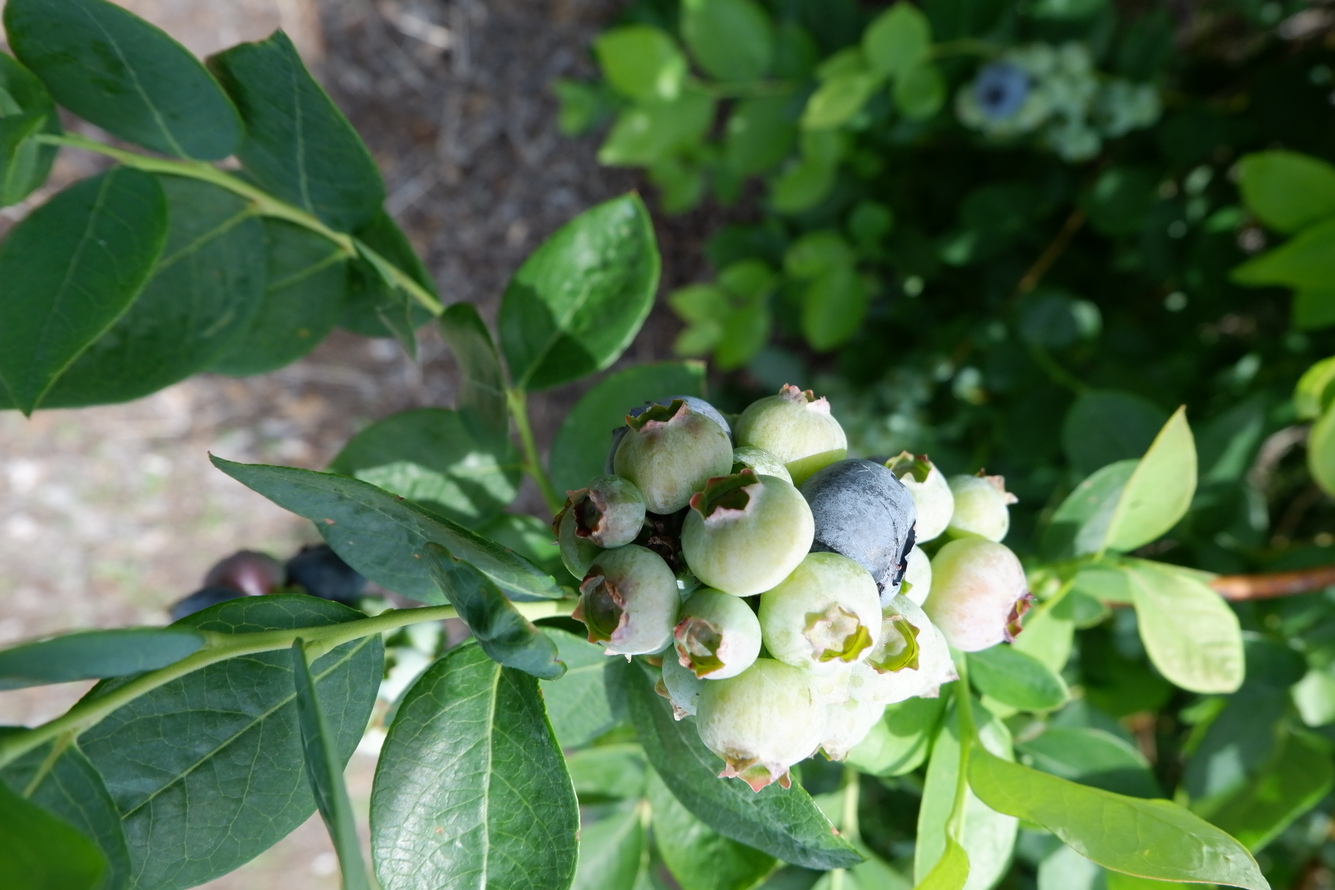Immature: (699, 660, 826, 783), (686, 473, 812, 591), (762, 552, 883, 667), (614, 402, 733, 509), (928, 538, 1033, 650), (579, 548, 679, 652), (736, 388, 844, 481), (848, 593, 938, 702), (676, 590, 758, 678), (886, 454, 950, 541), (809, 695, 884, 764), (554, 492, 611, 580), (575, 476, 644, 546), (944, 473, 1012, 541), (917, 620, 962, 699), (662, 647, 703, 717), (802, 668, 854, 705), (734, 449, 794, 481), (901, 548, 929, 602)
Mature: (804, 460, 914, 609), (606, 396, 734, 475)
